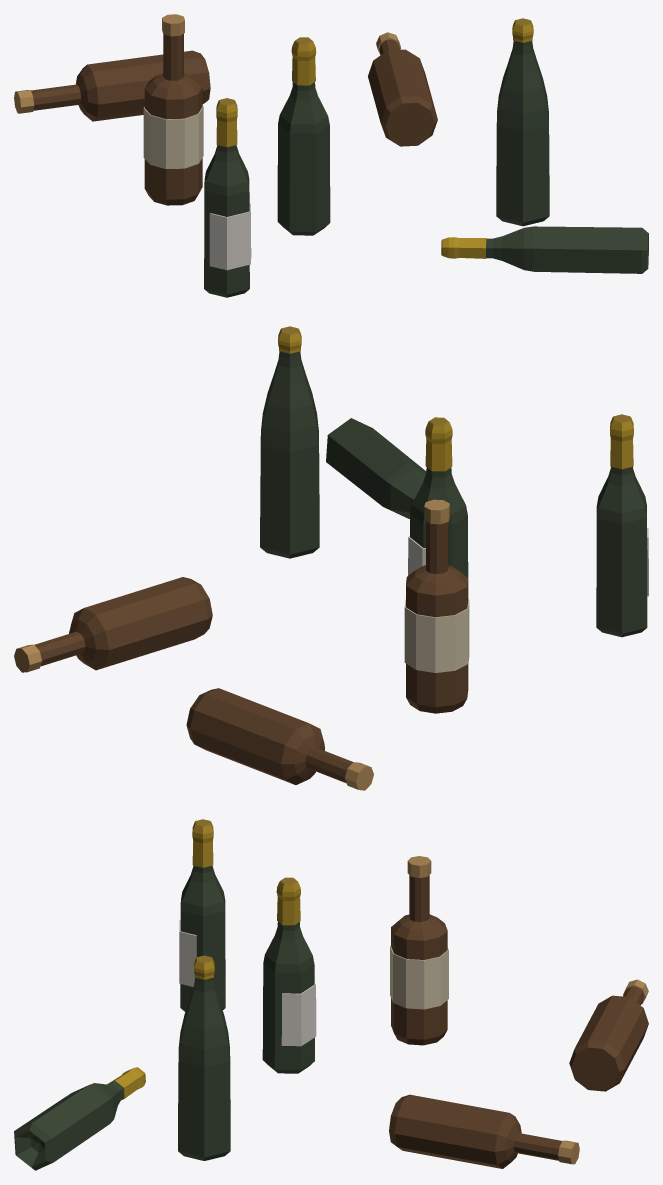
Rendered from bottles.glb.
3 renders of one model, top to bottom at view 1: azimuth 30°, elevation 25°; view 2: azimuth 150°, elevation 25°; view 3: azimuth 270°, elevation 25°, orthographic. The views are drawn at different scales.
Parts seen in each view (by area): view 1: bottle; view 2: bottle; view 3: bottle.
Boxes of the visible parts, x1,y1,x2,y2 form: bottle: (14, 14, 648, 297); bottle: (14, 326, 648, 790); bottle: (14, 819, 648, 1170).
Bounding box in the file's own units: 0.6385 × 0.3163 × 0.9312.
